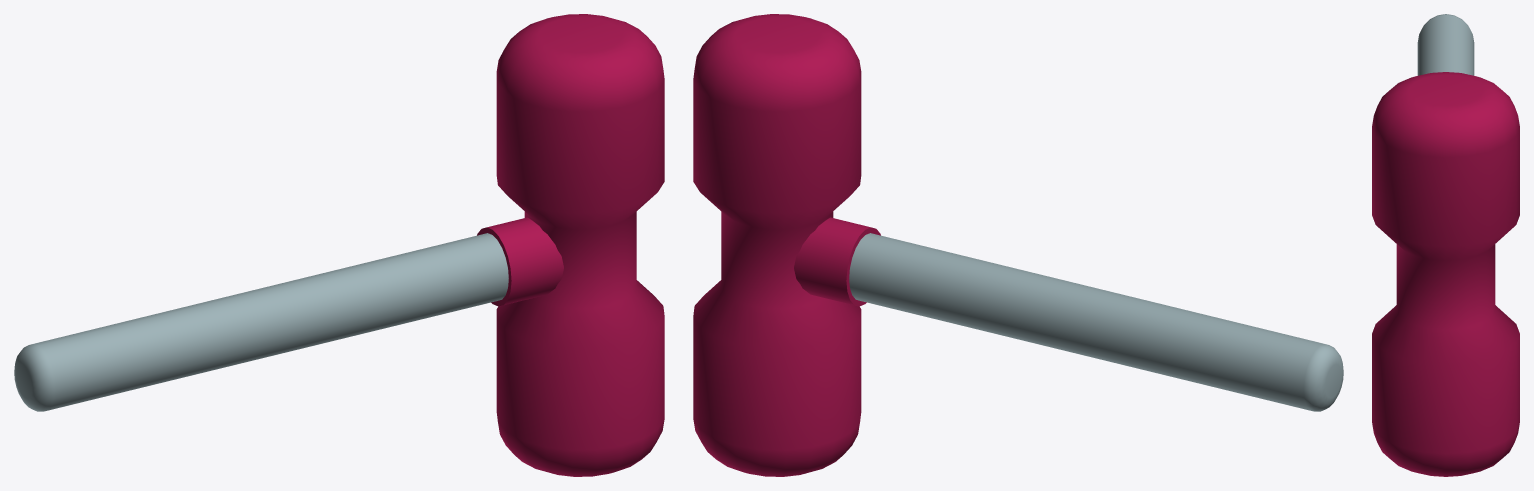
File: Hammer.fbx
3 views of the same model, side by side, from view 1: azimuth 30°, elevation 25°; view 2: azimuth 150°, elevation 25°; view 3: azimuth 270°, elevation 25° (orthographic). The views are drawn at different scales.
Parts seen in each view (by area): view 1: Hammer; view 2: Hammer; view 3: Hammer.
Part boxes in pixels (bbox=[...]): Hammer: bbox=[14, 14, 664, 476]; Hammer: bbox=[693, 14, 1343, 476]; Hammer: bbox=[1372, 14, 1519, 476].
Bounding box in the file's own units: 909 × 580 × 212.
